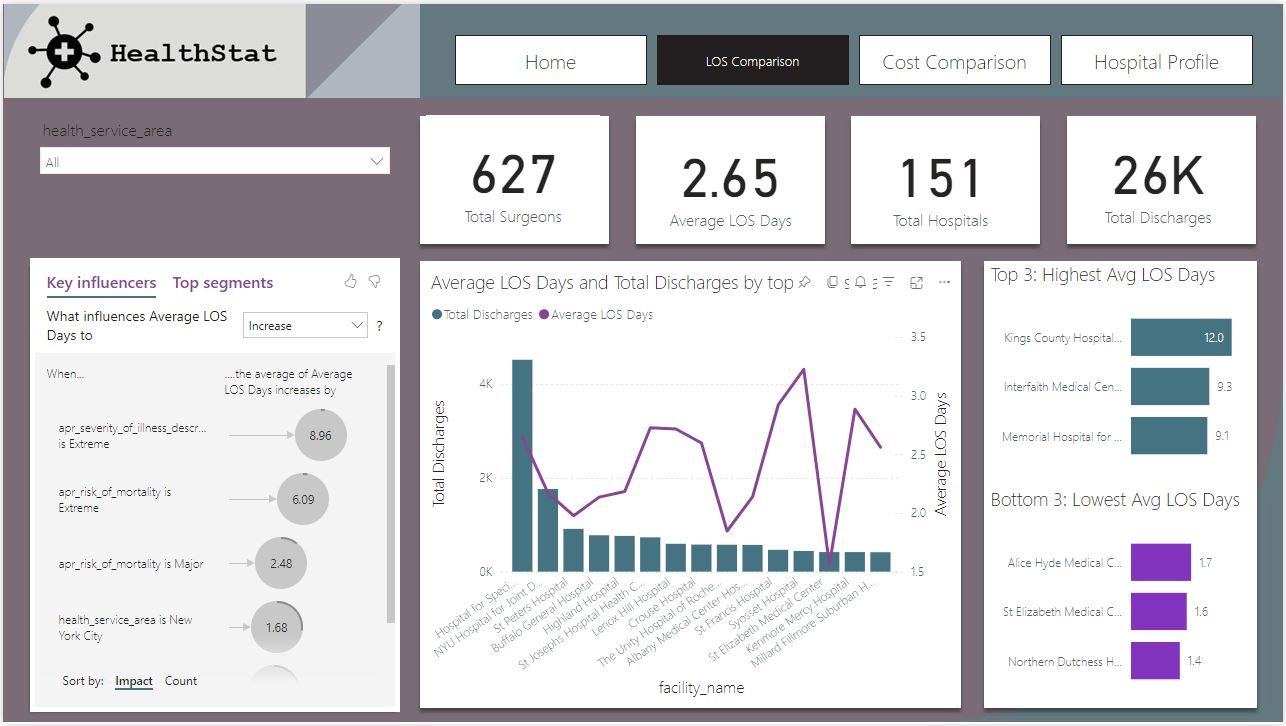

The page's visual inventory and layout, read from the dashboard file:
{"tool":"powerbi","page":{"name":"LOS Comparison","canvas":[1280,720],"ordinal":1},"visuals":[{"type":"card","fields":{"Values":["_Measures.Total Surgeons"]},"box":[422.6,111.1,174.3,123.5],"z":0},{"type":"lineStackedColumnComboChart","title":"Average LOS Days and Total Discharges by top 15 Hospitals","fields":{"Y":["_Measures.Total Discharges"],"Category":["hospital_discharges.facility_name"],"Y2":["_Measures.Average LOS Days"]},"box":[422.6,264.8,532.4,433.6],"z":1000},{"type":"slicer","fields":{"Values":["hospital_discharges.health_service_area"]},"box":[27.4,109.8,369.1,130.4],"z":2000},{"type":"keyDriversVisual","fields":{"ExplainBy":["hospital_discharges.apr_risk_of_mortality","hospital_discharges.apr_severity_of_illness_description","hospital_discharges.ccs_diagnosis_description","hospital_discharges.patient_disposition","hospital_discharges.gender","hospital_discharges.Age Bins","surgical_program_size_summary.Surgical Program Size","hospital_discharges.health_service_area"],"Target":["_Measures.Average LOS Days"]},"box":[27.4,253.9,369.1,454.2],"z":3000},{"type":"clusteredBarChart","title":"Top 3: Highest Avg LOS Days","fields":{"Category":["hospital_discharges.facility_name"],"Y":["_Measures.Average LOS Days"]},"box":[982.7,257,270.1,220.5],"z":4000},{"type":"clusteredBarChart","title":"Bottom 3: Lowest Avg LOS Days","fields":{"Category":["hospital_discharges.facility_name"],"Y":["_Measures.Average LOS Days"]},"box":[982.7,481.9,270.1,220.5],"z":5000},{"type":"card","fields":{"Values":["_Measures.Average LOS Days"]},"box":[639.6,115.4,175.2,124.1],"z":6000},{"type":"card","fields":{"Values":["_Measures.Total Hospitals"]},"box":[849.8,115.4,175.2,124.1],"z":7000},{"type":"card","fields":{"Values":["_Measures.Total Discharges"]},"box":[1067.4,112.4,175.2,124.1],"z":8000},{"type":"pageNavigator","box":[452.1,31.4,800,49.9],"z":9000}]}

Visuals, with their boxes in screenshot pixels (x1, y1, x2, y2), scaled from the page's 1280x720 canvas onto the 1286x726 screenshot:
card - _Measures.Total Surgeons: BBox(425, 112, 600, 237)
"Average LOS Days and Total Discharges by top 15 Hospitals" lineStackedColumnComboChart: BBox(425, 267, 959, 704)
slicer - hospital_discharges.health_service_area: BBox(28, 111, 398, 242)
keyDriversVisual - hospital_discharges.apr_risk_of_mortality x hospital_discharges.apr_severity_of_illness_description: BBox(28, 256, 398, 714)
"Top 3: Highest Avg LOS Days" clusteredBarChart: BBox(987, 259, 1259, 481)
"Bottom 3: Lowest Avg LOS Days" clusteredBarChart: BBox(987, 486, 1259, 708)
card - _Measures.Average LOS Days: BBox(643, 116, 819, 241)
card - _Measures.Total Hospitals: BBox(854, 116, 1030, 241)
card - _Measures.Total Discharges: BBox(1072, 113, 1248, 238)
pageNavigator: BBox(454, 32, 1258, 82)
